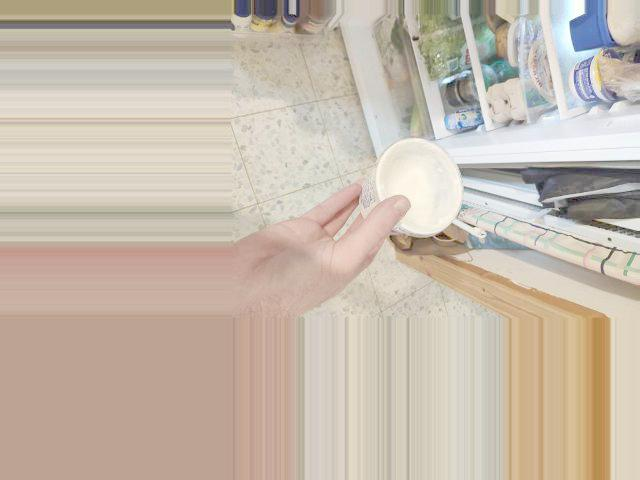cotage: (353, 143, 475, 239)
